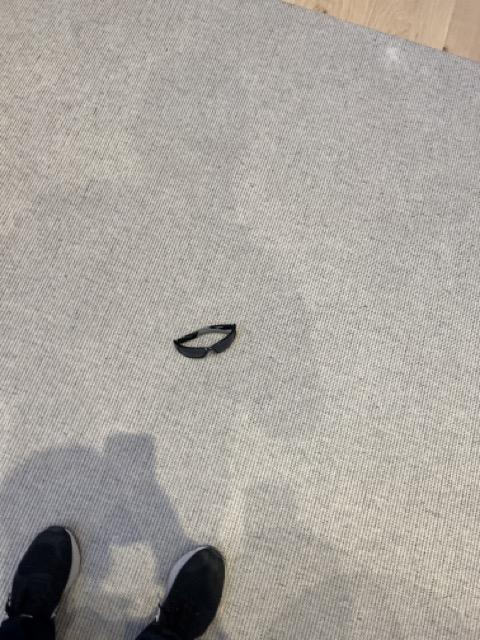Sunglasses: (173, 321, 238, 361)
